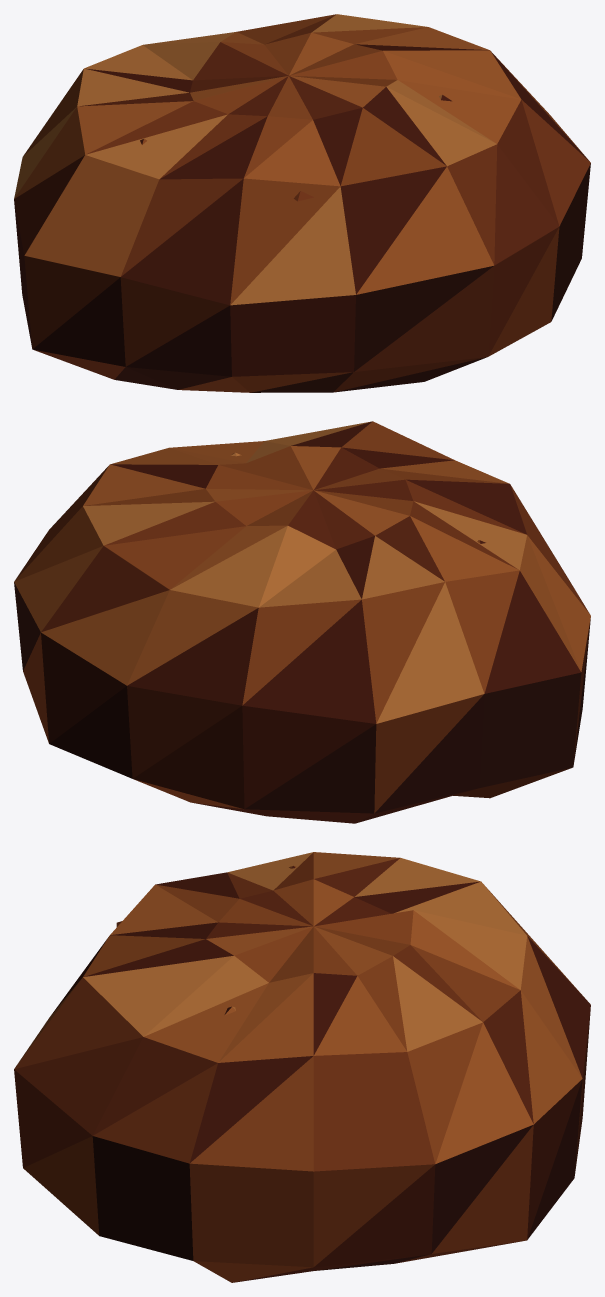
File: MielonyPSX.fbx
3 renders of one model, top to bottom at view 1: azimuth 30°, elevation 25°; view 2: azimuth 150°, elevation 25°; view 3: azimuth 270°, elevation 25°, orthographic. The views are drawn at different scales.
Visible parts, largest first — view 1: MielonyPSX; view 2: MielonyPSX; view 3: MielonyPSX.
Boxes of the visible parts, x1,y1,x2,y2 form: MielonyPSX: [14, 14, 590, 392]; MielonyPSX: [14, 421, 590, 823]; MielonyPSX: [14, 852, 590, 1282].
Size of the model in its own units: 97.93 by 47.39 by 87.45.
